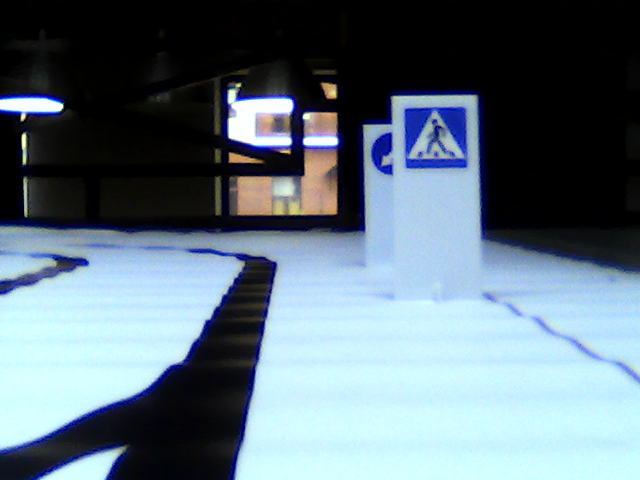pesh: (403, 107, 470, 170)
